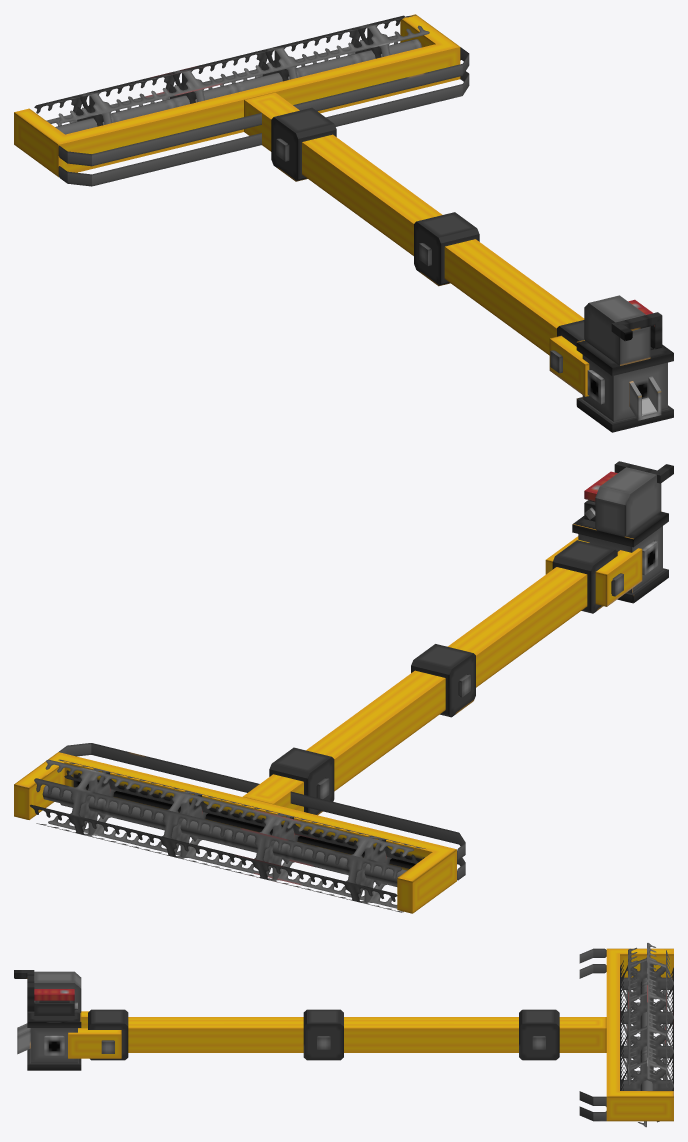
Rendered from thresher.obj.
3 renders of one model, top to bottom at view 1: azimuth 30°, elevation 25°; view 2: azimuth 150°, elevation 25°; view 3: azimuth 270°, elevation 25°, orthographic. The views are drawn at different scales.
Parts seen in each view (by area): view 1: Front, Base, Wheel, ArmLower, ArmUpper; view 2: Wheel, Front, Base, ArmUpper, ArmLower; view 3: ArmLower, ArmUpper, Front, Base, Wheel, Engine.
Boxes of the visible parts, box(x1,y1,x2,y2) form: Front: box(14, 14, 469, 186); Base: box(549, 295, 673, 432); Wheel: box(34, 15, 429, 134); ArmLower: box(271, 107, 442, 255); ArmUpper: box(414, 212, 584, 355); Wheel: box(30, 759, 425, 912); Front: box(14, 743, 465, 913); Base: box(545, 461, 673, 613); ArmUpper: box(411, 567, 587, 717); ArmLower: box(269, 670, 445, 815); ArmLower: box(344, 1009, 559, 1060); ArmUpper: box(128, 1009, 343, 1060); Front: box(559, 948, 673, 1121); Base: box(14, 970, 128, 1070); Wheel: box(620, 943, 673, 1127); Engine: box(34, 989, 77, 1015).
Bounding box in the file's own units: 6.5 × 1.62 × 12.25.
